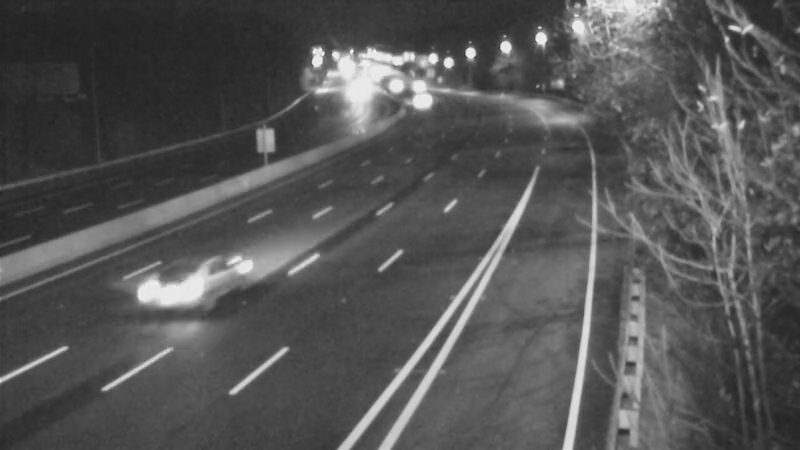vehicle: (139, 254, 219, 334), (394, 59, 444, 109), (369, 58, 419, 108), (401, 75, 451, 125), (330, 68, 380, 118)
